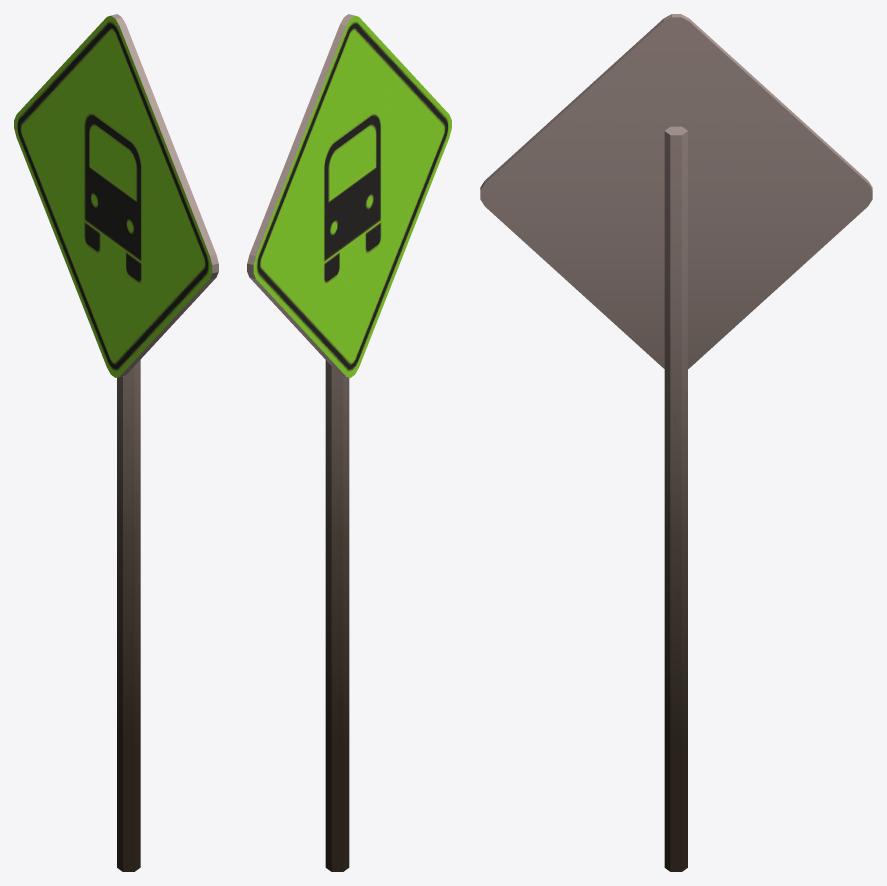
Rendered from Sing2.fbx.
3 renders of one model, left to right at view 1: azimuth 30°, elevation 25°; view 2: azimuth 150°, elevation 25°; view 3: azimuth 270°, elevation 25°, orthographic.
Visible parts, largest first — view 1: Circle.013, Circle.008; view 2: Circle.013, Circle.008; view 3: Circle.013, Circle.008.
Boxes of the visible parts, x1,y1,x2,y2 form: Circle.013: (14,14,218,377); Circle.008: (117,360,140,871); Circle.013: (247,14,451,377); Circle.008: (325,360,349,871); Circle.013: (480,14,872,368); Circle.008: (664,126,687,871).
Size of the model in its own units: 11.87 by 399 by 168.
